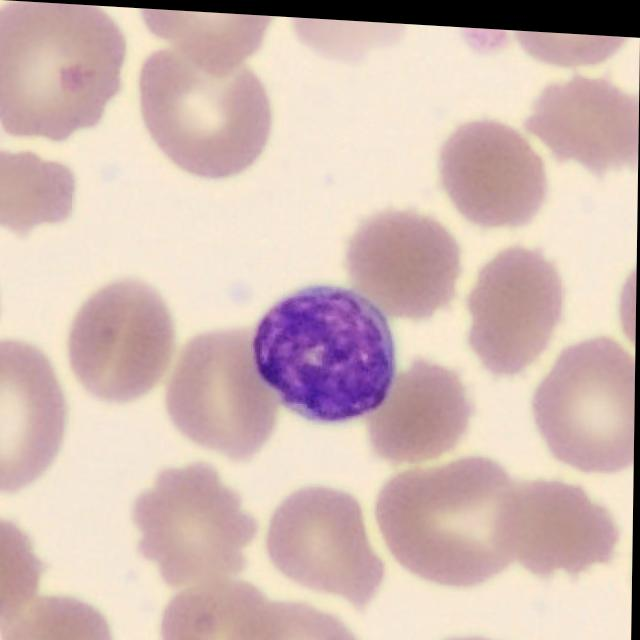Linfocito: (252, 283, 395, 419)
